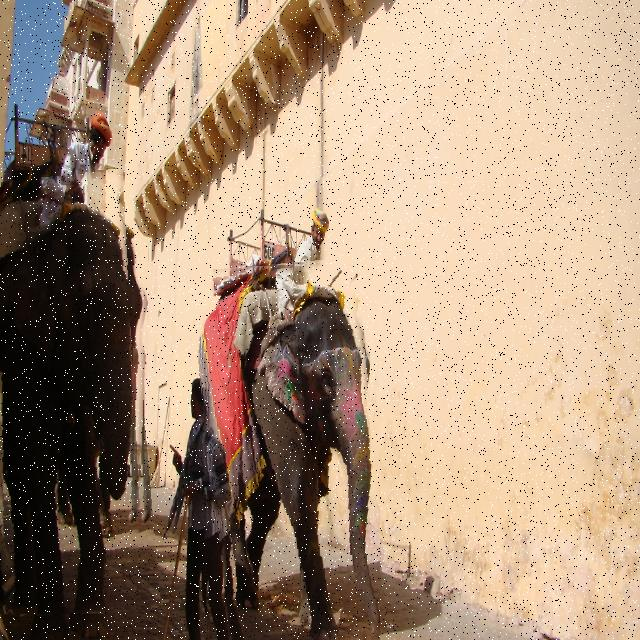elephant: (199, 260, 380, 640), (0, 170, 152, 614)
